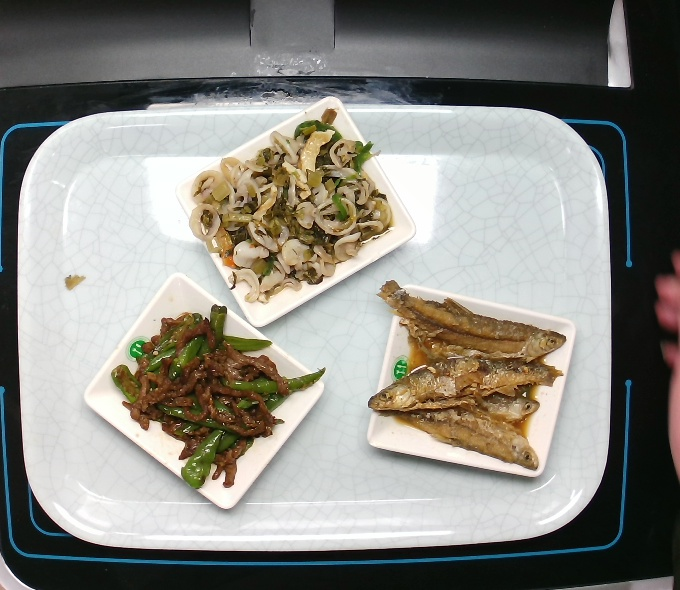wcq-QingJiaoNiuRou: (102, 296, 328, 501)
wcq-XiaoXiYu: (362, 280, 581, 470)
wcq-XueCaiYouYu: (176, 100, 394, 313)
